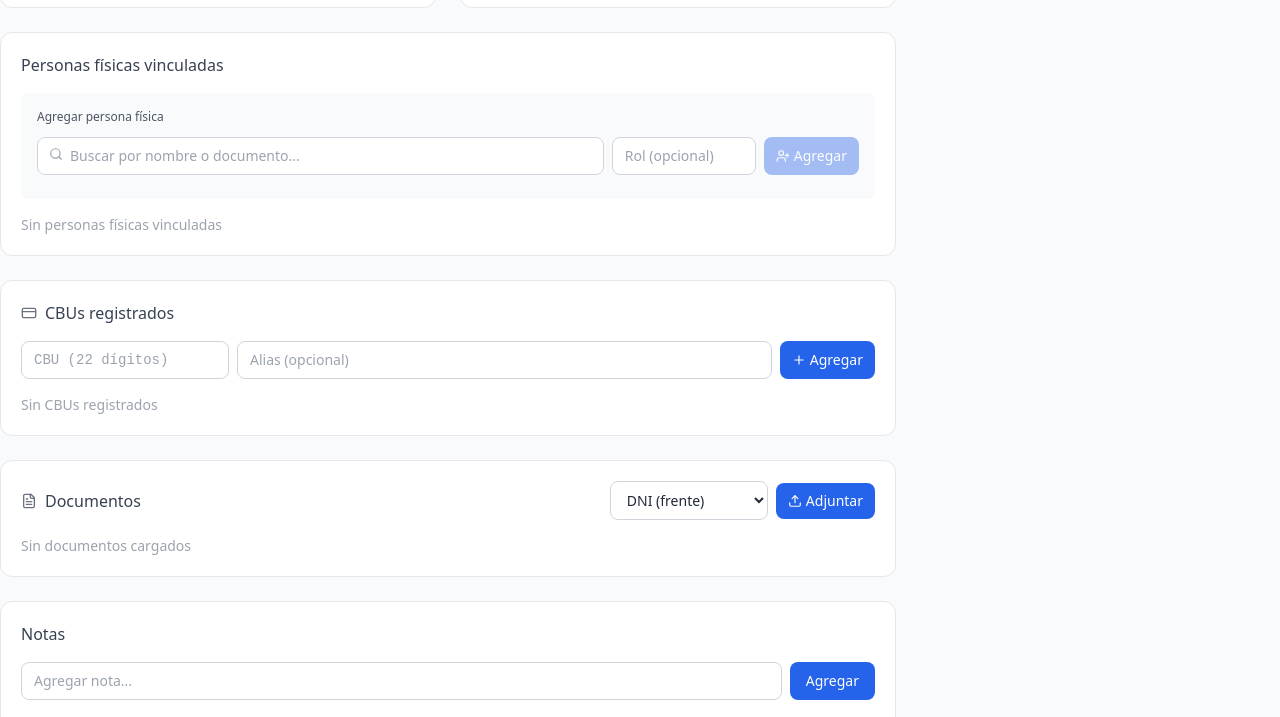
Test: ClienteDetailPage — CBUs (solo persona jurídica) › descarta los caracteres no numéricos que se tipean en el CBU
(page scrolled)
Type "01-70-abc99" into the field with placeholder "CBU (22 dígitos)" at [125, 360], box top-left (21, 341), bottom-right (229, 379)
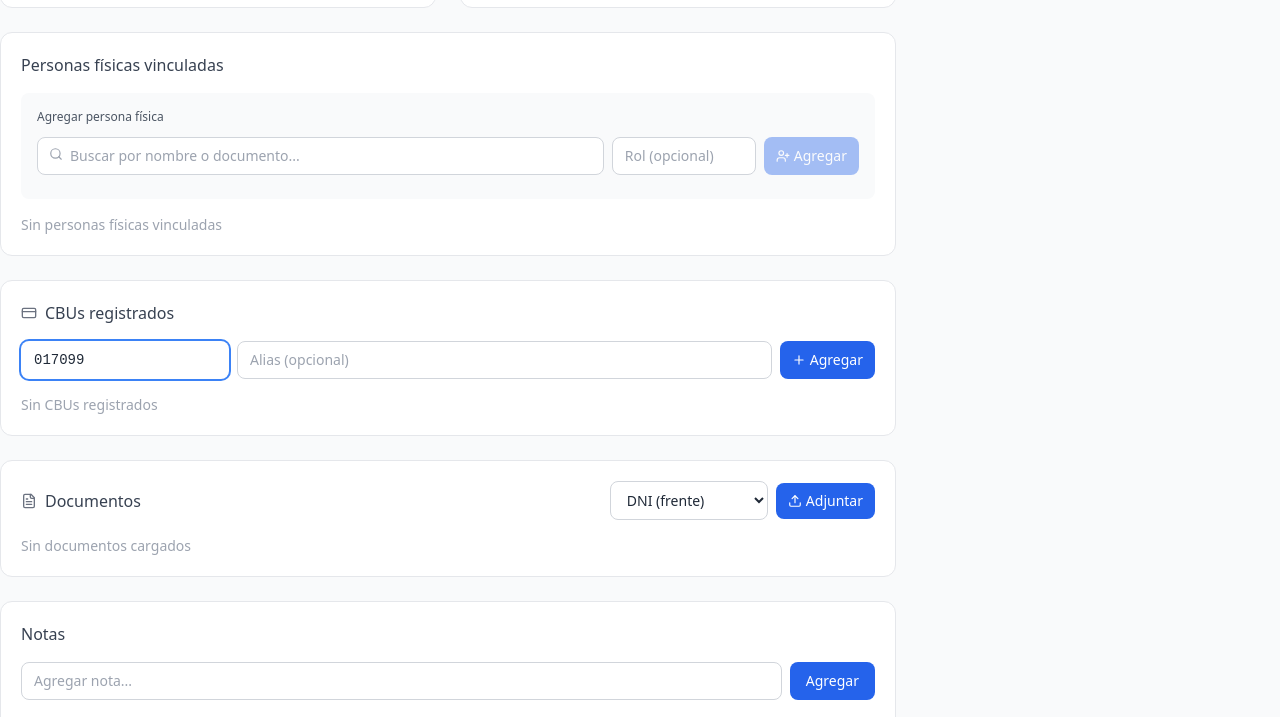
Expected: the field with placeholder "CBU (22 dígitos)" holds "017099", top-left (21, 341), bottom-right (229, 379)
